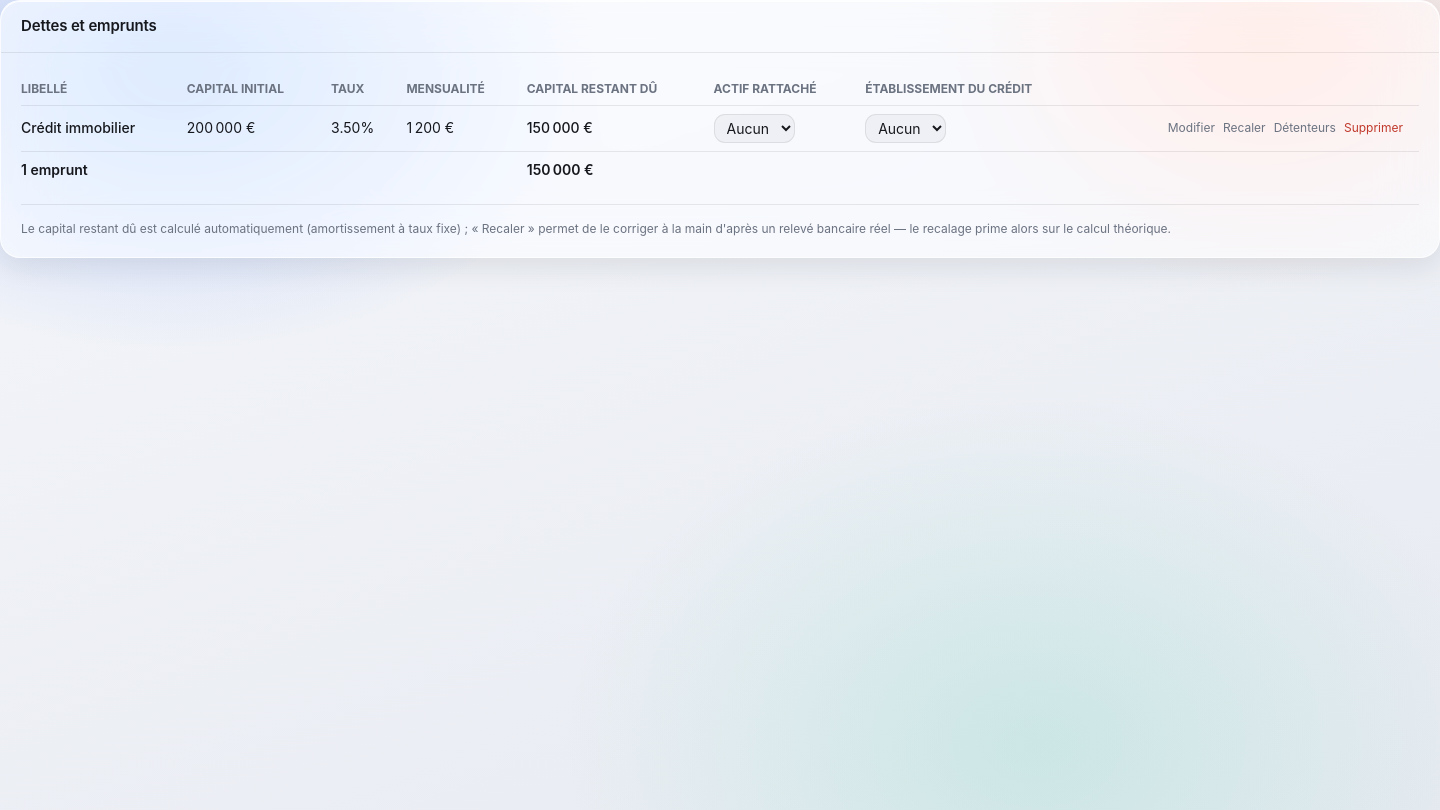
Scenario: LoansCard — édition complète (backlog quickwin § T.1) › l'enregistrement appelle updateLoan avec les champs modifiés, jamais capital_restant_du_manuel
Check: the text "Crédit immobilier" is shown, box top-left (21, 105), bottom-right (187, 151)
Click the button "Modifier" at (1191, 128), box top-left (1168, 120), bottom-right (1215, 136)
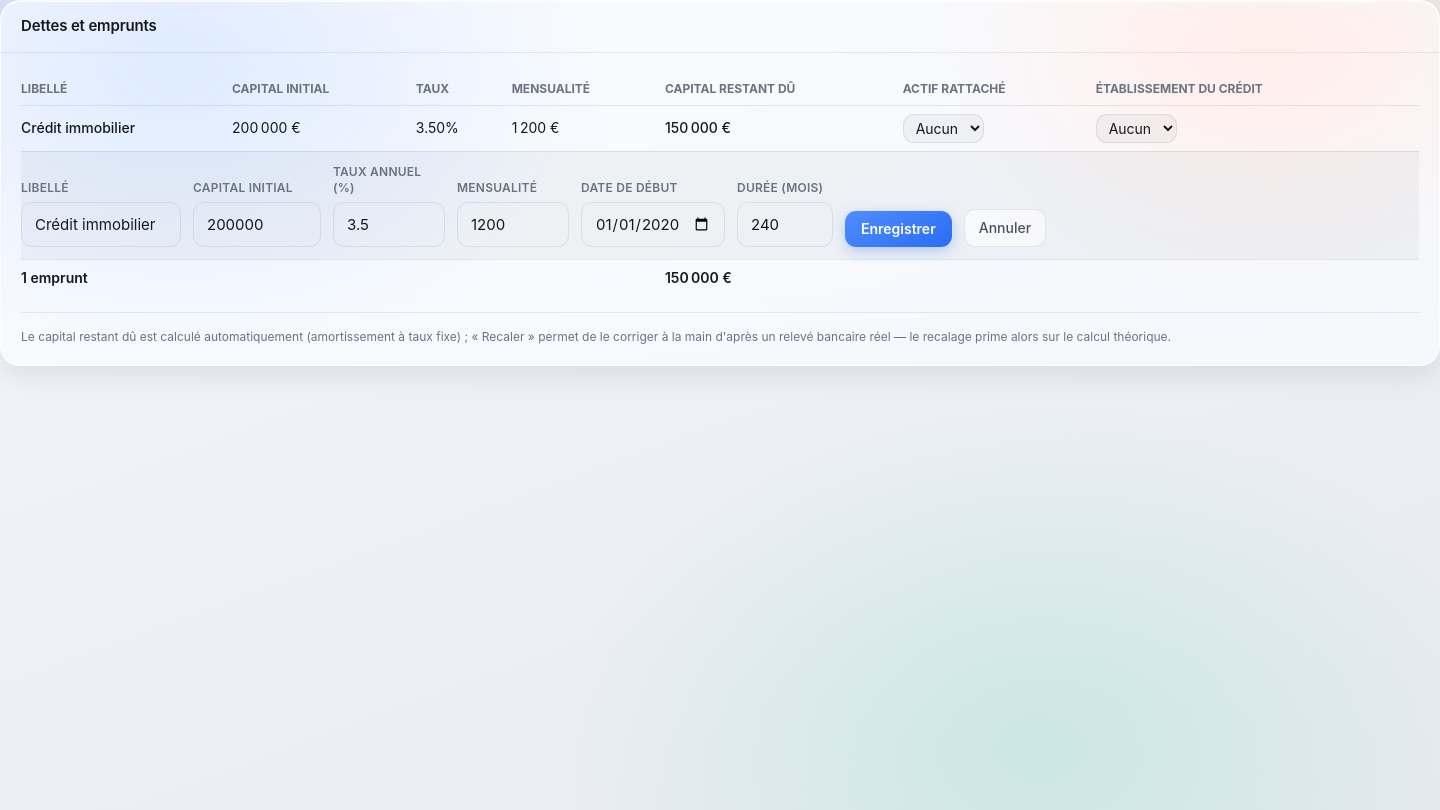
Replace the text in the field named "Libellé de Crédit immobilier (édition)" with "Crédit renégocié" at (101, 224), box top-left (21, 202), bottom-right (181, 247)
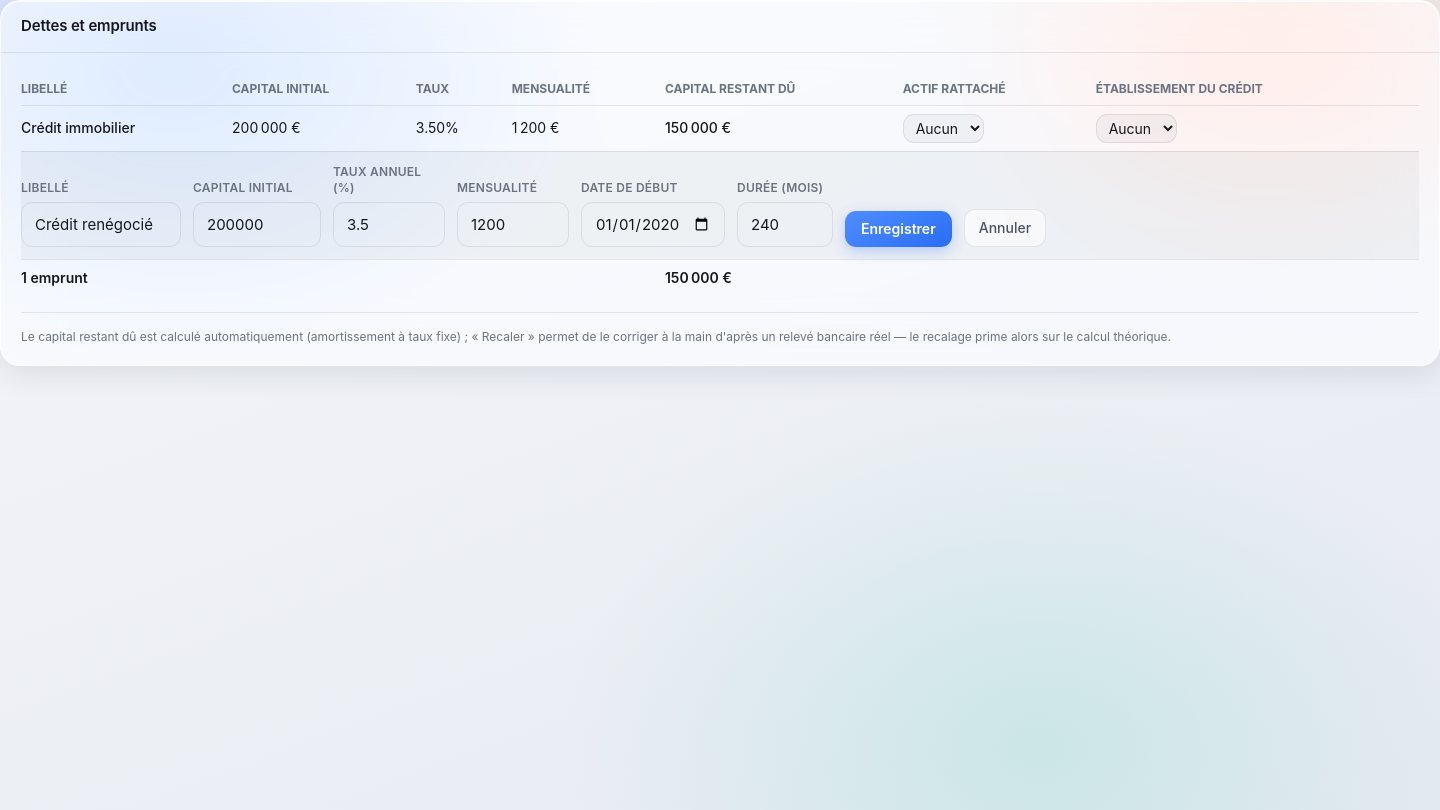
Replace the text in the number field named "Taux annuel de Crédit immobilier (édition)" with "2.1" at (389, 224), box top-left (333, 202), bottom-right (445, 247)
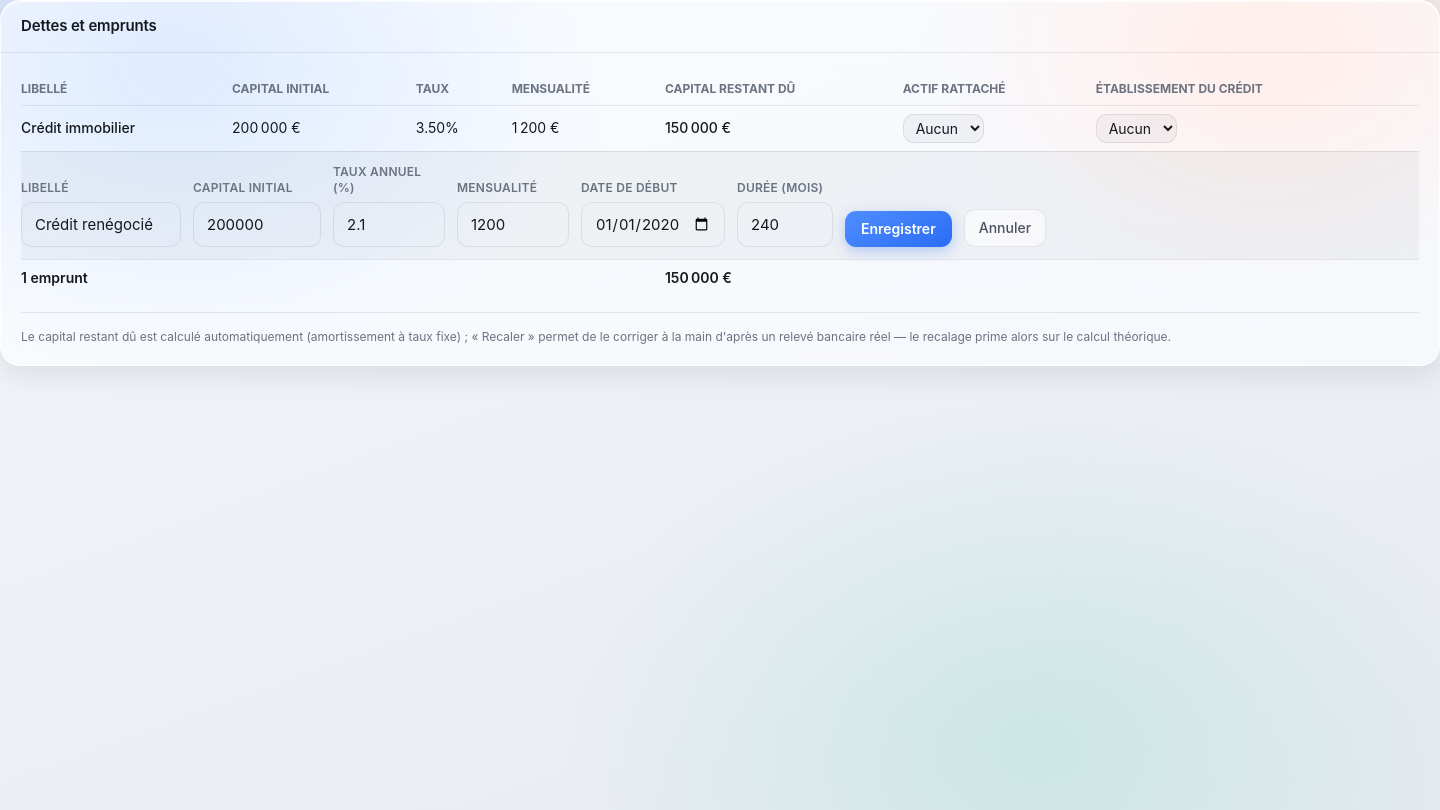
Click the button "Enregistrer" at (898, 229), box top-left (845, 211), bottom-right (952, 247)
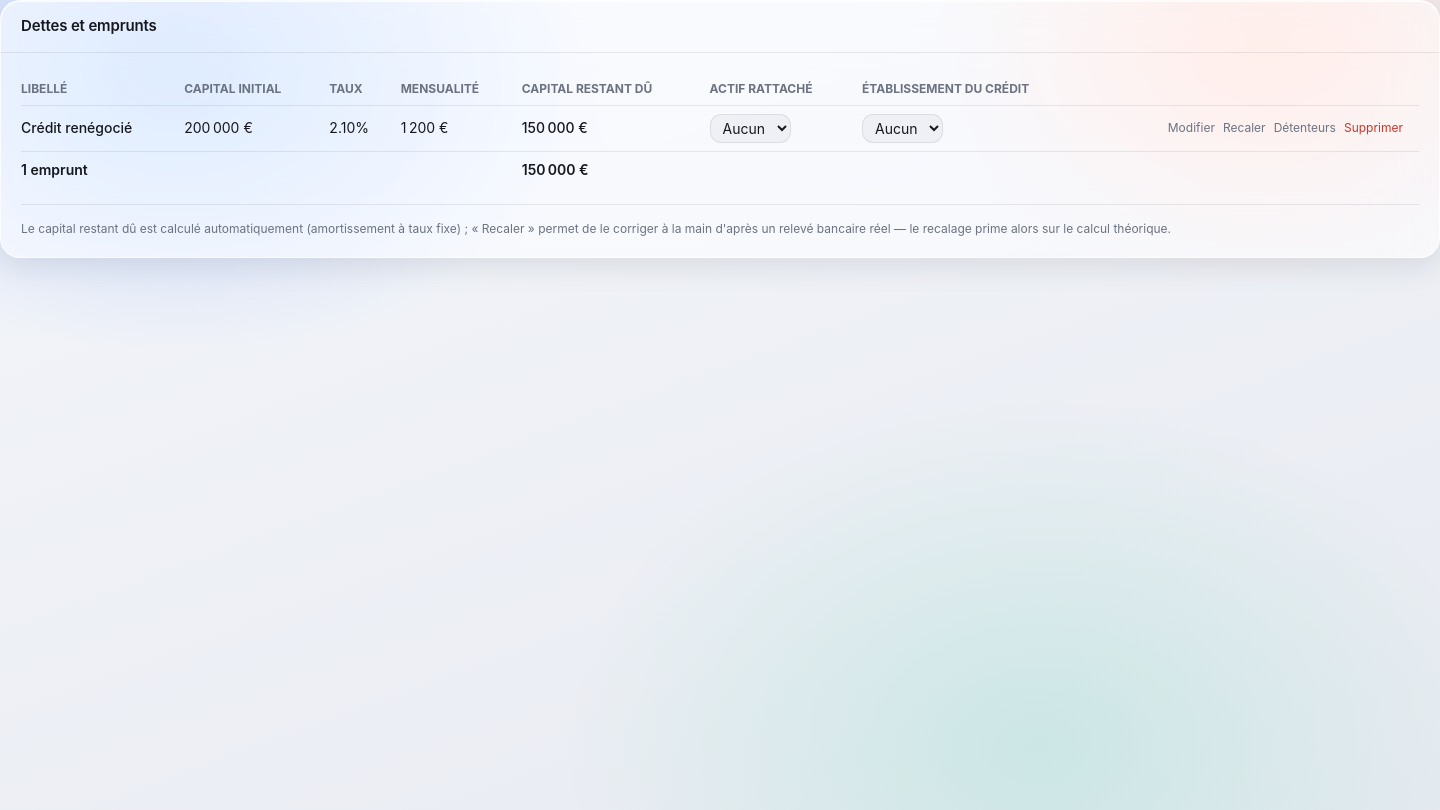
Check: the text "Crédit renégocié" is shown, box top-left (21, 105), bottom-right (184, 151)
